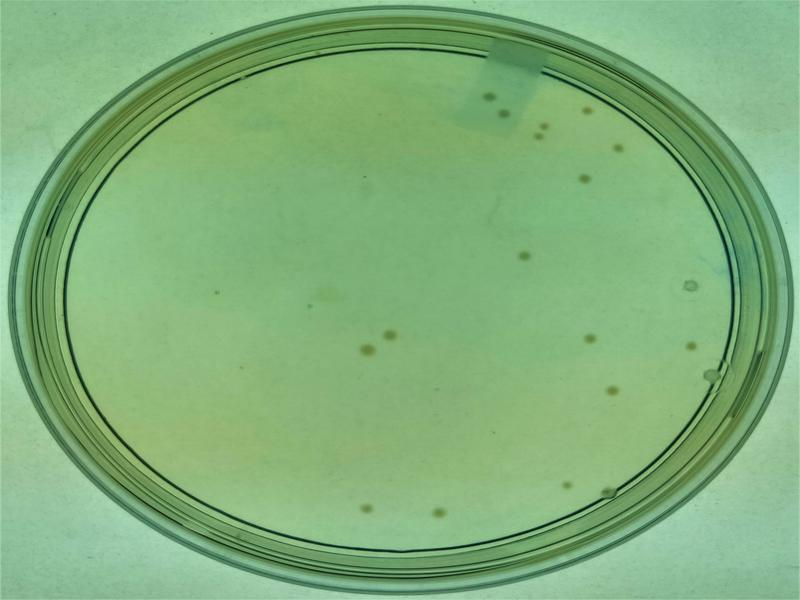colony: (599, 376, 633, 409), (421, 500, 456, 525), (511, 242, 540, 270), (352, 496, 381, 521), (375, 320, 404, 345), (474, 82, 503, 107), (572, 100, 602, 121), (555, 473, 579, 499), (604, 135, 630, 159), (681, 333, 706, 357), (572, 168, 596, 190), (580, 326, 601, 348), (491, 105, 516, 123), (356, 342, 378, 361), (535, 116, 552, 132), (529, 130, 546, 144)
